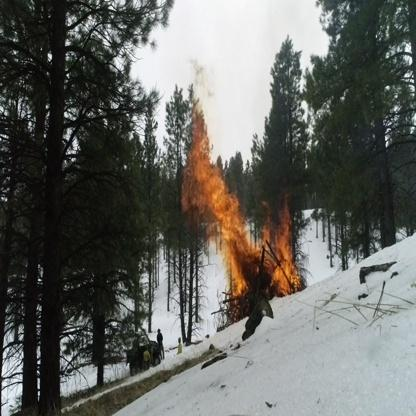Fire: (179, 94, 303, 305)
